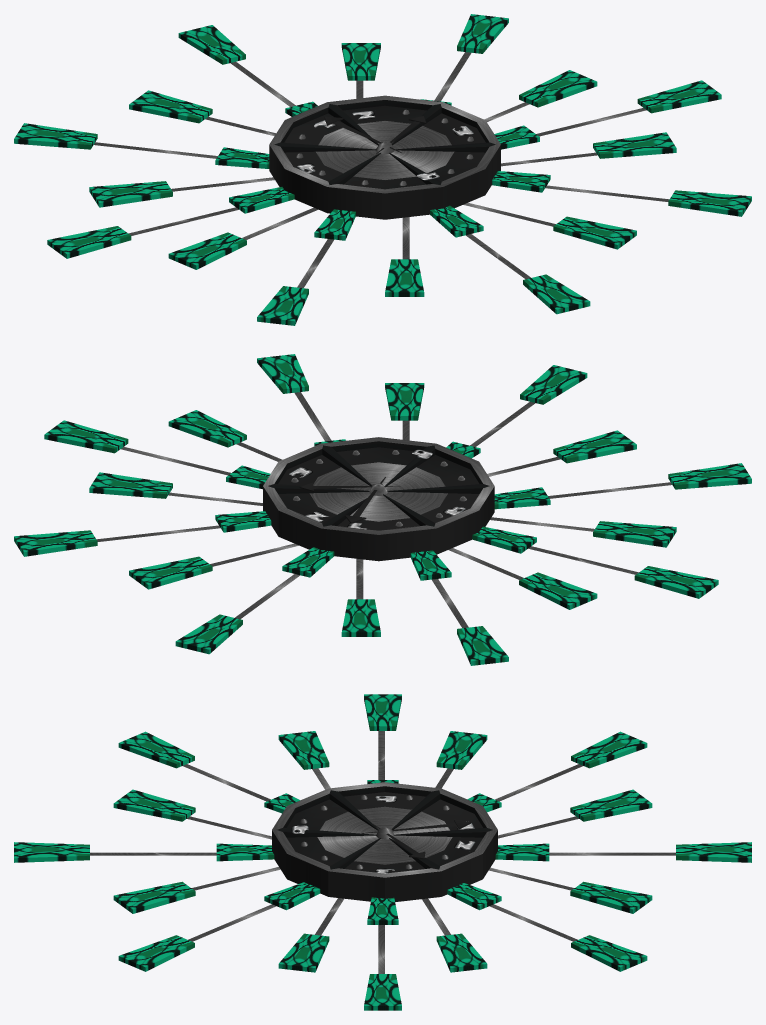
File: Clock_01_E.FBX
3 renders of one model, top to bottom at view 1: azimuth 30°, elevation 25°; view 2: azimuth 150°, elevation 25°; view 3: azimuth 270°, elevation 25°, orthographic. The views are drawn at different scales.
Parts seen in each view (by area): view 1: Starburst_Clock; view 2: Starburst_Clock; view 3: Starburst_Clock.
Boxes of the visible parts, x1=… form: Starburst_Clock: x1=14, y1=14, x2=751, y2=325; Starburst_Clock: x1=14, y1=354, x2=751, y2=665; Starburst_Clock: x1=14, y1=694, x2=751, y2=1010.
Size of the model in its own units: 78.3 by 3.32 by 78.3.
